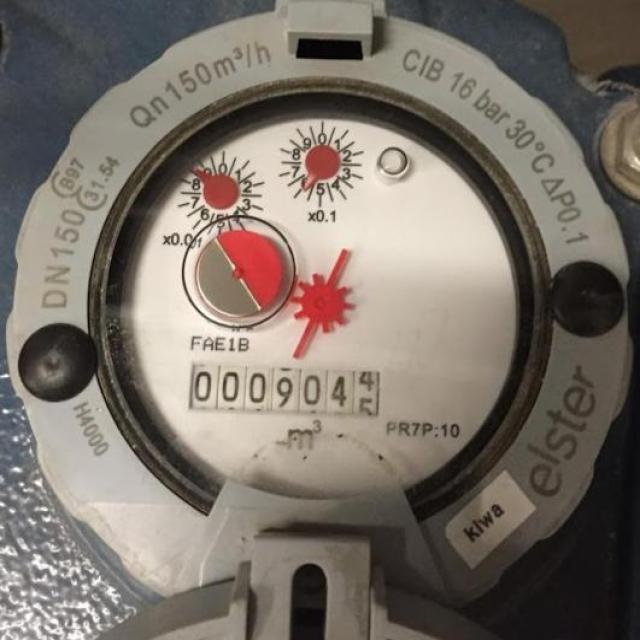gaz_meter: (89, 78, 555, 506)
indication: (185, 360, 381, 422)
